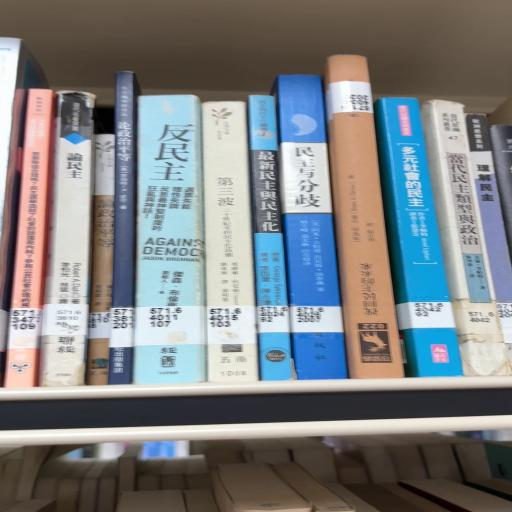reverse: (325, 56, 405, 379)
